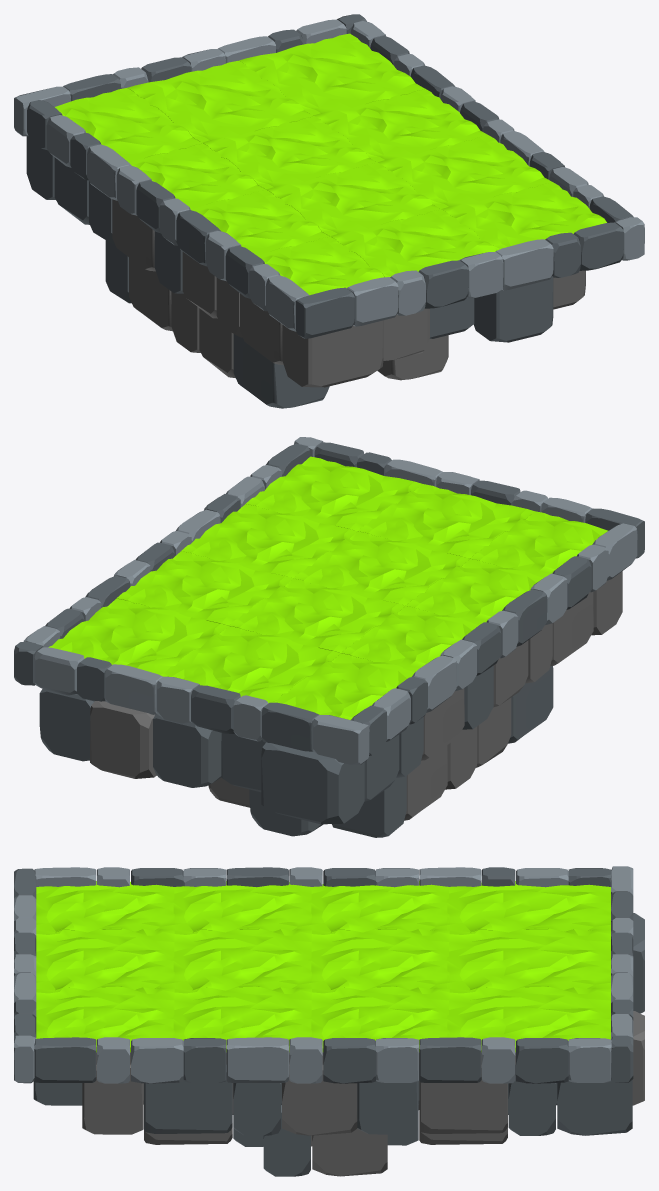
The model's file is house002Ground.fbx.
The picture shows the model from 3 angles, top to bottom: view 1: azimuth 30°, elevation 25°; view 2: azimuth 150°, elevation 25°; view 3: azimuth 270°, elevation 25°; orthographic projection. The views are drawn at different scales.
Parts seen in each view (by area): view 1: pasted__polySurface5785, polySurface1466, pasted__polySurface4148; view 2: pasted__polySurface5785, pasted__polySurface4148, polySurface1466; view 3: pasted__polySurface5785, polySurface1466, pasted__polySurface4148.
Boxes of the visible parts, x1=… form: pasted__polySurface5785: x1=55, y1=33, x2=606, y2=295; polySurface1466: x1=14, y1=14, x2=644, y2=338; pasted__polySurface4148: x1=26, y1=136, x2=585, y2=408; pasted__polySurface5785: x1=48, y1=456, x2=608, y2=719; pasted__polySurface4148: x1=39, y1=571, x2=622, y2=837; polySurface1466: x1=14, y1=437, x2=644, y2=764; pasted__polySurface5785: x1=36, y1=881, x2=610, y2=1052; polySurface1466: x1=14, y1=866, x2=633, y2=1083; pasted__polySurface4148: x1=33, y1=913, x2=644, y2=1176.
Size of the model in its own units: 1081 by 478 by 1597.
